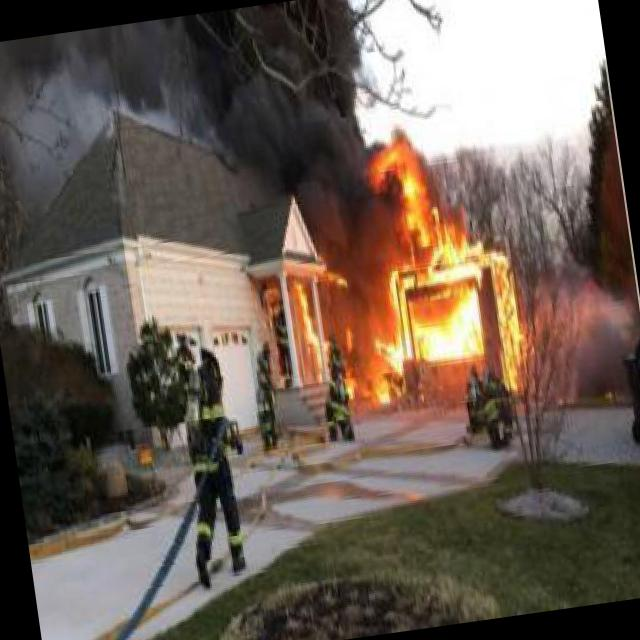Fire: (379, 206, 528, 411), (356, 138, 436, 222), (292, 264, 332, 380), (361, 334, 405, 410), (336, 319, 366, 405)
